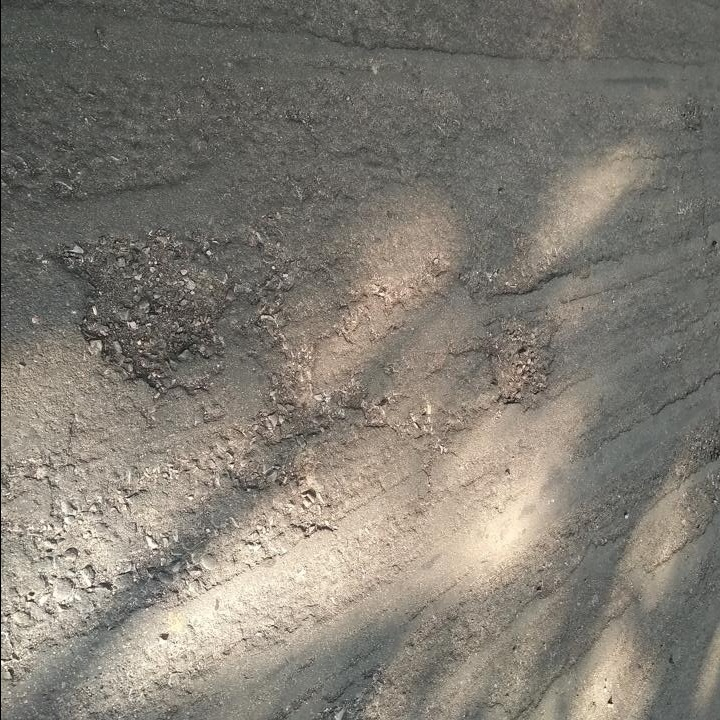pothole: (57, 219, 227, 390), (484, 316, 561, 410), (680, 410, 720, 477), (679, 91, 707, 135)
